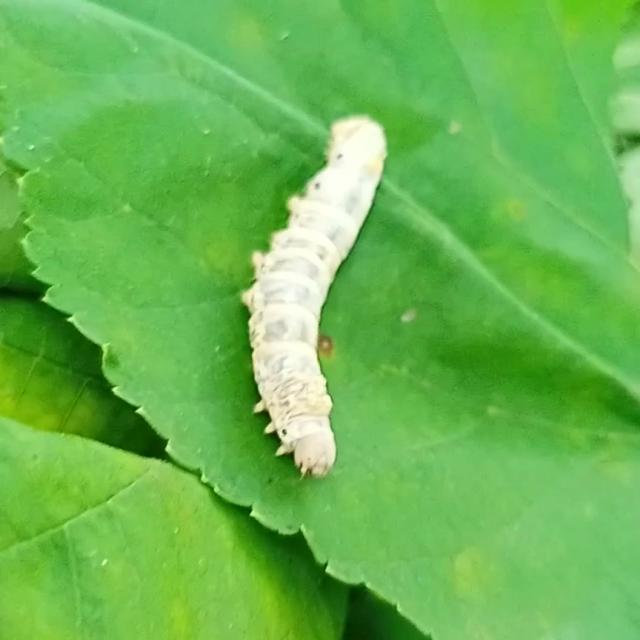Grasserie: (193, 76, 444, 534)
